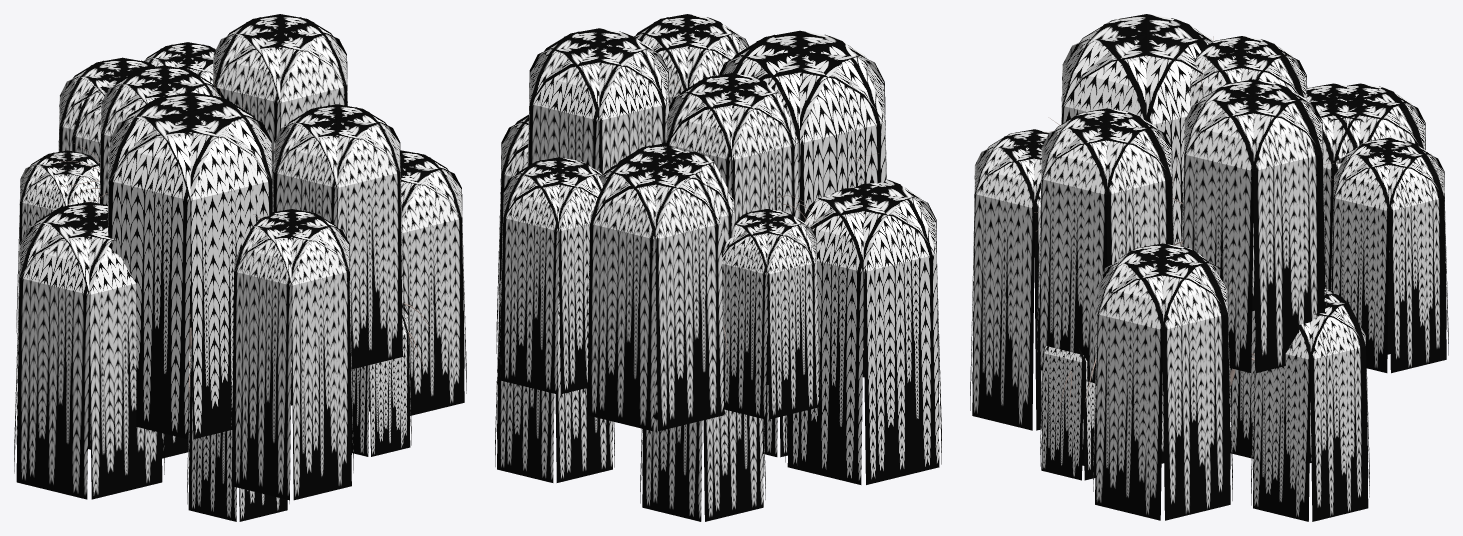
File: willow tree (1).fbx
The picture shows the model from 3 angles, left to right: view 1: azimuth 30°, elevation 25°; view 2: azimuth 150°, elevation 25°; view 3: azimuth 270°, elevation 25°; orthographic projection. The views are drawn at different scales.
Parts seen in each view (by area): view 1: Cylinder.006, Cylinder.021, Cylinder.004, Cylinder.030, Cylinder.028, Cylinder.037, Cylinder.019, Cylinder.022, Cylinder.039, Cylinder.009, Cylinder.007, Cylinder.001 (+25 smaller); view 2: Cylinder.020, Cylinder.016, Cylinder.017, Cylinder.019, Cylinder.040, Cylinder.005, Cylinder.011, Cylinder.010, Cylinder.035, Cylinder.007, Cylinder.008, Cylinder.041 (+22 smaller); view 3: Cylinder.009, Cylinder.023, Cylinder.024, Cylinder.029, Cylinder.038, Cylinder.008, Cylinder.042, Cylinder.027, Cylinder.041, Cylinder.026, Cylinder.039, Cylinder.006 (+21 smaller).
Part boxes in pixels (box(x1,y1,x2,y2)): Cylinder.006: box(108, 96, 272, 439); Cylinder.021: box(16, 205, 162, 499); Cylinder.004: box(108, 96, 272, 439); Cylinder.030: box(231, 211, 351, 500); Cylinder.028: box(250, 211, 351, 500); Cylinder.037: box(273, 107, 402, 369); Cylinder.019: box(16, 209, 162, 499); Cylinder.022: box(400, 153, 464, 415); Cylinder.039: box(273, 107, 400, 361); Cylinder.009: box(213, 17, 347, 194); Cylinder.007: box(213, 17, 347, 130); Cylinder.001: box(369, 315, 410, 456); Cylinder.020: box(787, 179, 939, 484); Cylinder.016: box(587, 158, 702, 431); Cylinder.017: box(599, 159, 723, 431); Cylinder.019: box(787, 188, 939, 484); Cylinder.040: box(501, 160, 601, 394); Cylinder.005: box(719, 34, 885, 377); Cylinder.011: box(735, 211, 818, 419); Cylinder.010: box(721, 212, 817, 419); Cylinder.035: box(669, 76, 798, 343); Cylinder.007: box(528, 31, 669, 171); Cylinder.008: box(528, 31, 668, 174); Cylinder.041: box(501, 160, 603, 394); Cylinder.009: box(1182, 82, 1324, 372); Cylinder.023: box(1095, 246, 1230, 520); Cylinder.024: box(1095, 246, 1230, 520); Cylinder.029: box(972, 132, 1042, 430); Cylinder.038: box(1039, 111, 1173, 383); Cylinder.008: box(1183, 82, 1324, 372); Cylinder.042: box(1337, 140, 1446, 373); Cylinder.027: box(1253, 289, 1368, 521); Cylinder.041: box(1332, 140, 1446, 372); Cylinder.026: box(1253, 301, 1368, 521); Cylinder.039: box(1041, 111, 1172, 273); Cylinder.006: box(1061, 18, 1207, 246).
Size of the model in its own units: 747 by 704 by 683.
